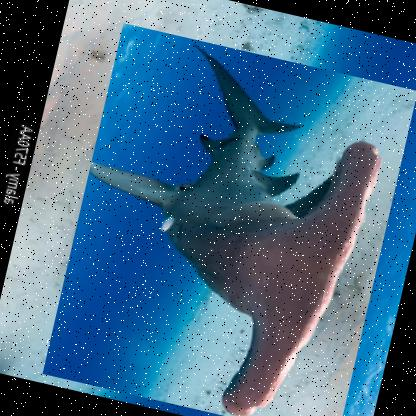hammerhead_Shark: (42, 21, 415, 415)
